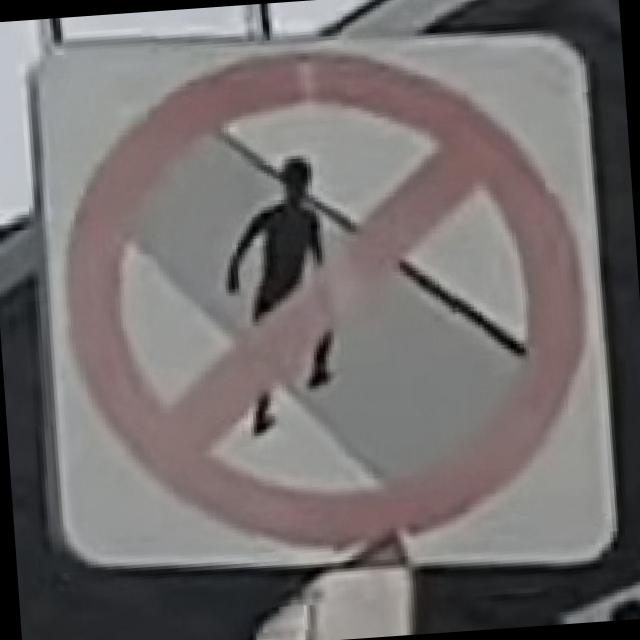nojaywalking_sign: (2, 1, 616, 598)
